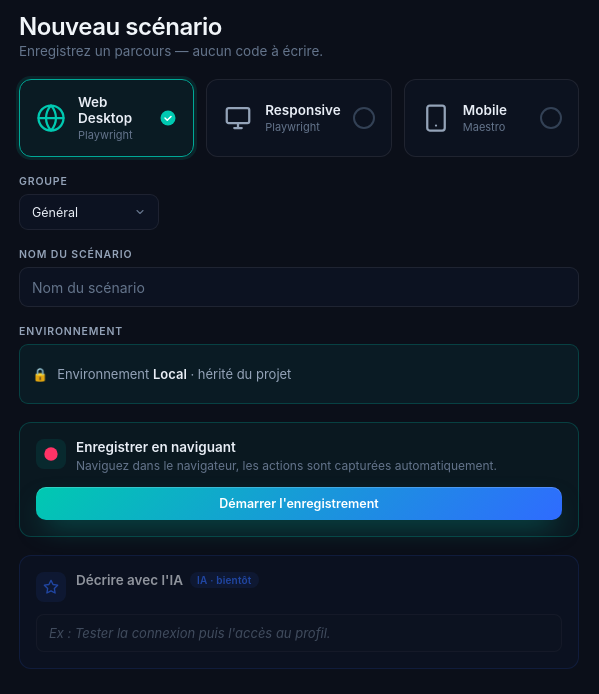
Scenario: NewScenario › stopRecording échoue → message affiché, pas de navigation
The width and height of the screenshot is (599, 694).
Type "Parcours" into the field with placeholder "Nom du scénario" at x=299, y=287, box [19, 267, 579, 307]
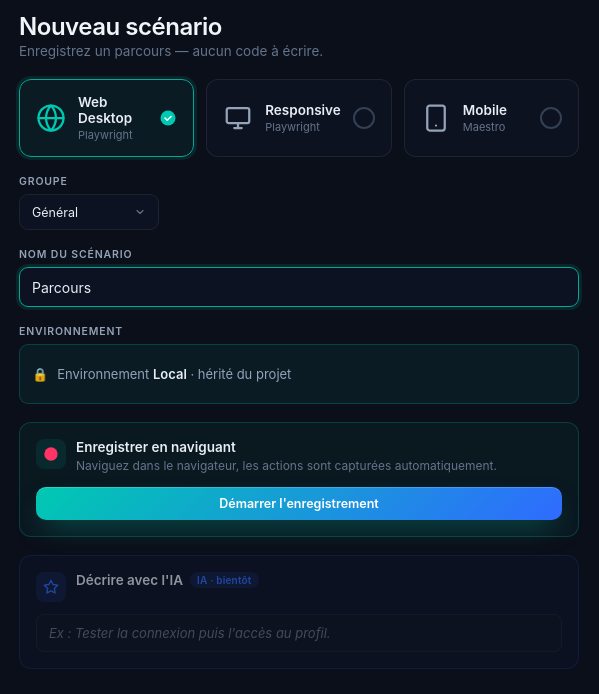
Click the button "Démarrer l'enregistrement" at x=299, y=504, box [36, 487, 562, 520]
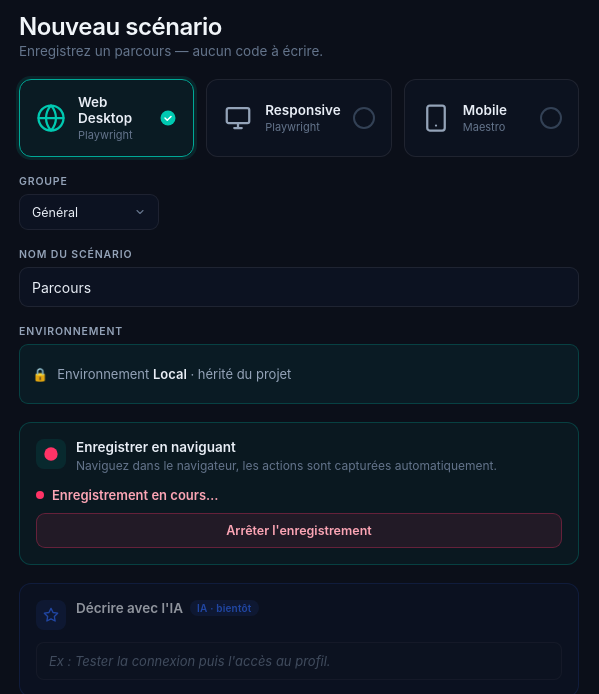
Click the button "Arrêter l'enregistrement" at x=299, y=530, box [36, 513, 562, 548]
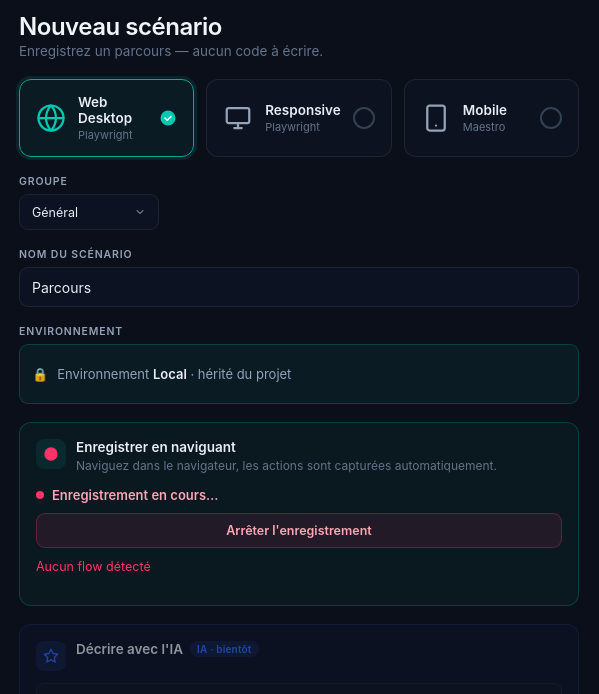
Expected: the text "Aucun flow détecté" is shown, [36, 559, 151, 574]
